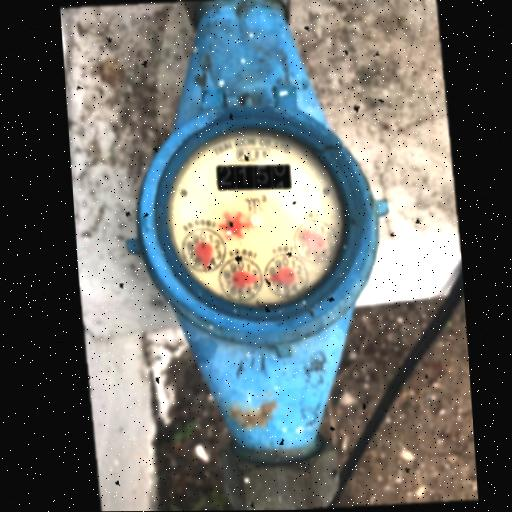0: (272, 165, 292, 188)
1: (236, 166, 254, 190)
2: (217, 166, 236, 190)
5: (254, 166, 271, 189)
border_water_meter_number: (216, 163, 292, 191)
